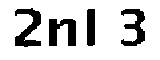2: (10, 5, 43, 52)
3: (115, 3, 154, 49)
I: (83, 5, 103, 49)
n: (50, 17, 80, 52)
